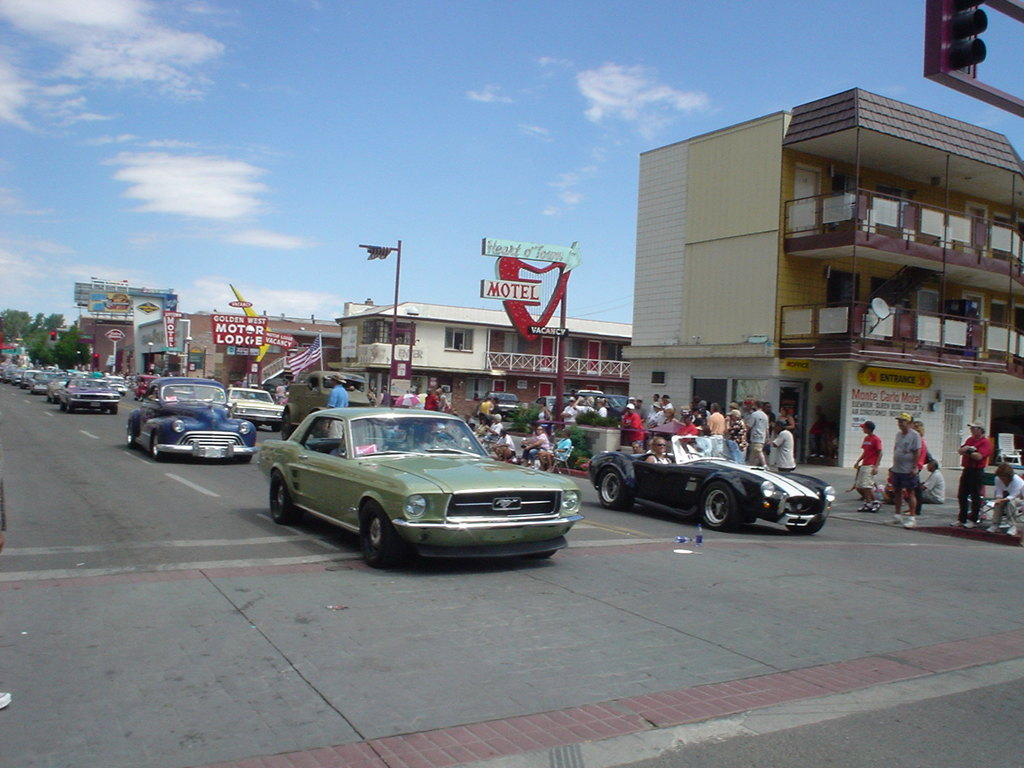Car: (257, 401, 579, 568), (590, 433, 836, 524), (129, 381, 257, 464), (225, 385, 284, 430), (54, 373, 122, 406), (26, 375, 50, 393)
